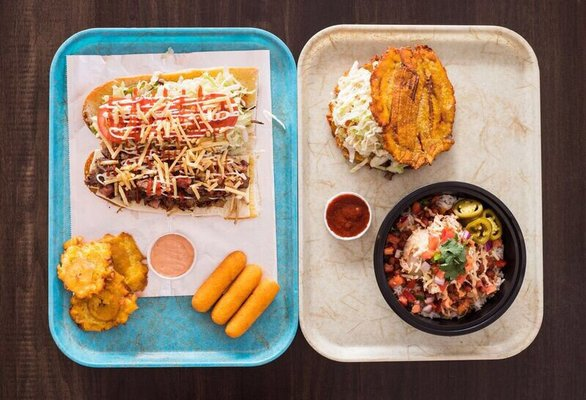sushi: (374, 181, 526, 336), (324, 193, 372, 240)
